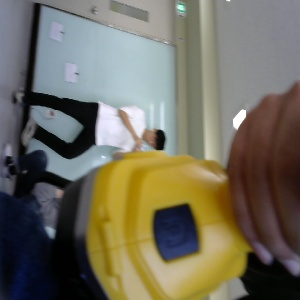Drone: (1, 26, 288, 293)
